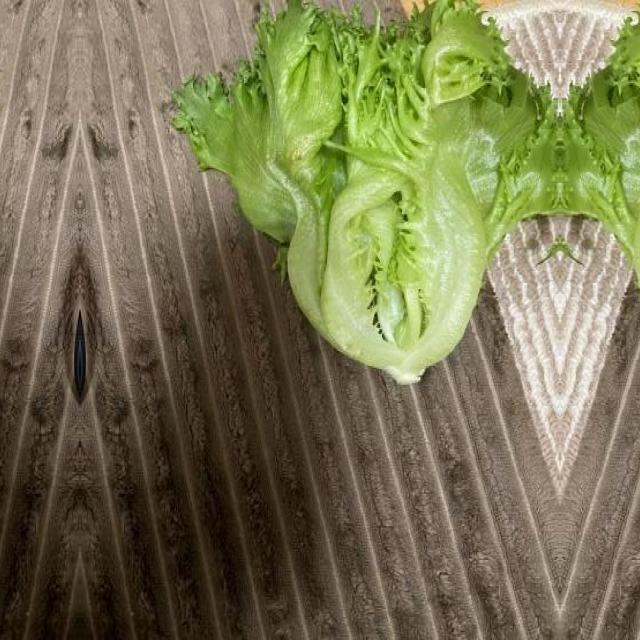healthy: (166, 0, 560, 388), (560, 0, 640, 388)
